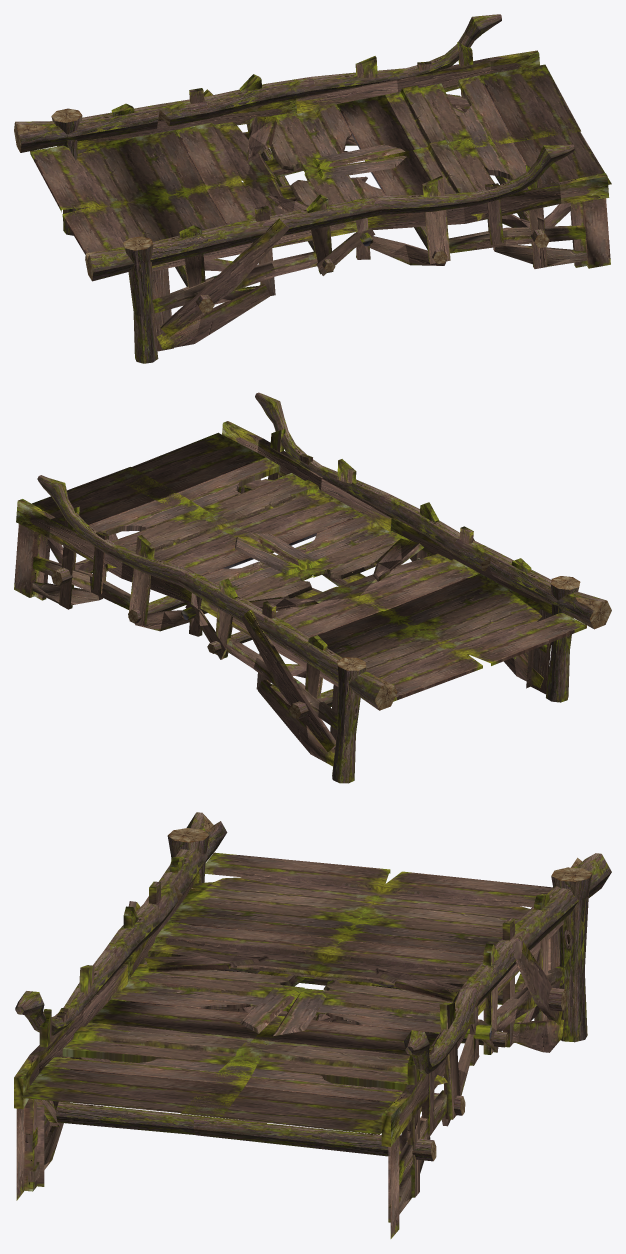
Rendered from f_1157_woodbrigde1.FBX.
The picture shows the model from 3 angles, top to bottom: view 1: azimuth 30°, elevation 25°; view 2: azimuth 150°, elevation 25°; view 3: azimuth 270°, elevation 25°; orthographic projection. The views are drawn at different scales.
Visible parts, largest first — view 1: w; view 2: w; view 3: w.
Part boxes in pixels (left/top/right/bottom): w: left=14, top=14, right=611, bottom=363; w: left=14, top=392, right=611, bottom=783; w: left=14, top=812, right=611, bottom=1238.
Size of the model in its own units: 52.66 by 17.01 by 38.81.
